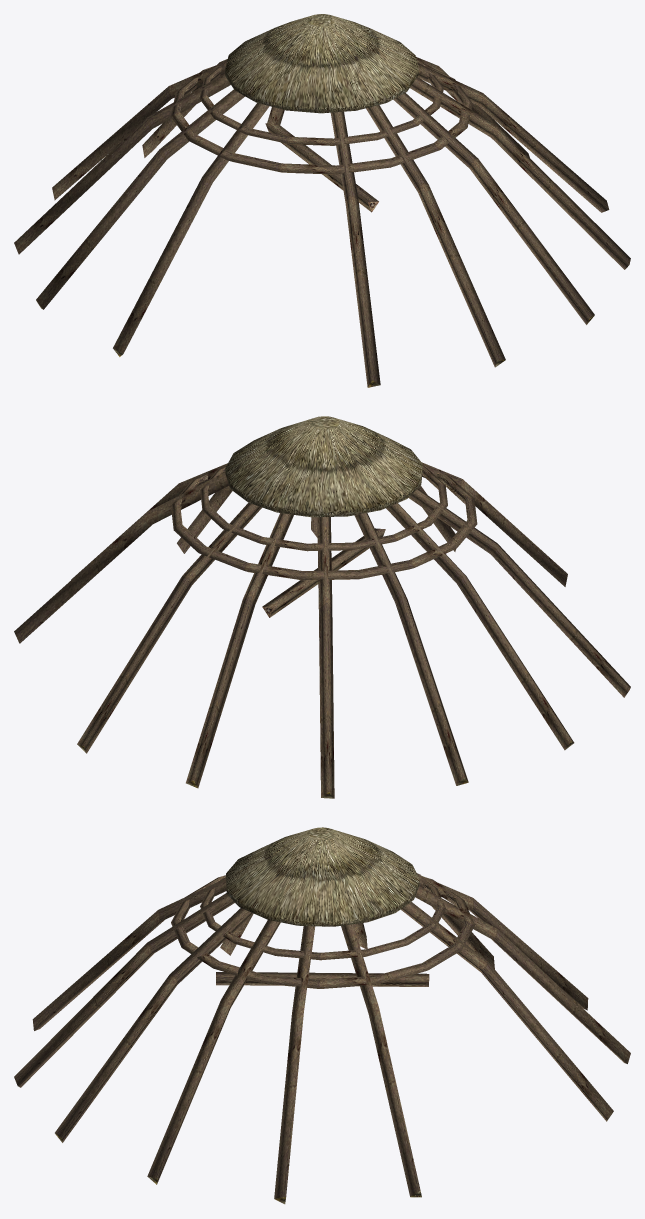
The model's file is celt_sb_roof.dae.
The picture shows the model from 3 angles, top to bottom: view 1: azimuth 30°, elevation 25°; view 2: azimuth 150°, elevation 25°; view 3: azimuth 270°, elevation 25°; orthographic projection.
Visible parts, largest first — view 1: special_roof-Pivot; view 2: special_roof-Pivot; view 3: special_roof-Pivot.
Boxes of the visible parts, <box> form: special_roof-Pivot: <box>14,14,630,387</box>; special_roof-Pivot: <box>14,416,630,798</box>; special_roof-Pivot: <box>14,827,630,1204</box>.
Size of the model in its own units: 15.82 by 15.9 by 6.93.
